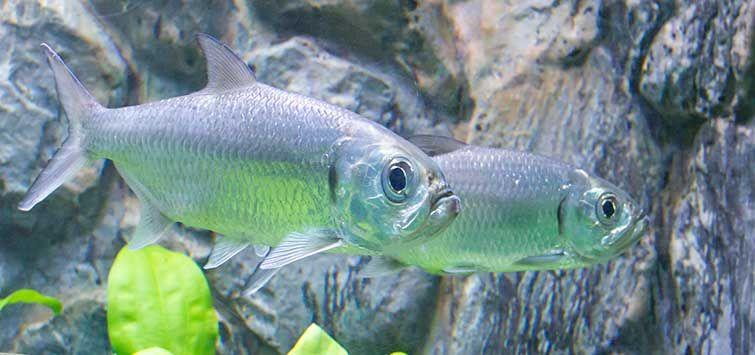Indo-Pacific Tarpon: (19, 33, 459, 279), (371, 137, 654, 288)
